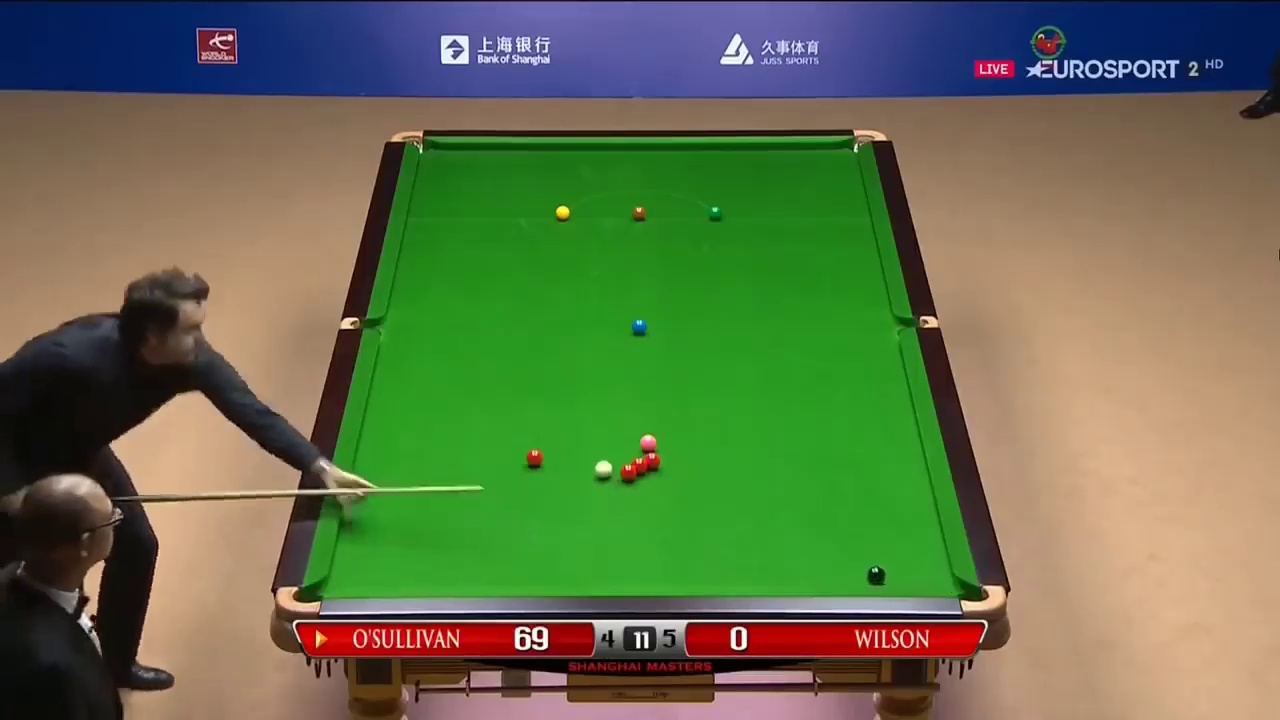ball: (637, 430, 657, 449), (591, 460, 612, 477), (867, 566, 886, 583), (525, 448, 542, 466), (631, 204, 649, 220), (703, 205, 722, 218), (556, 205, 571, 221), (629, 319, 647, 331)
